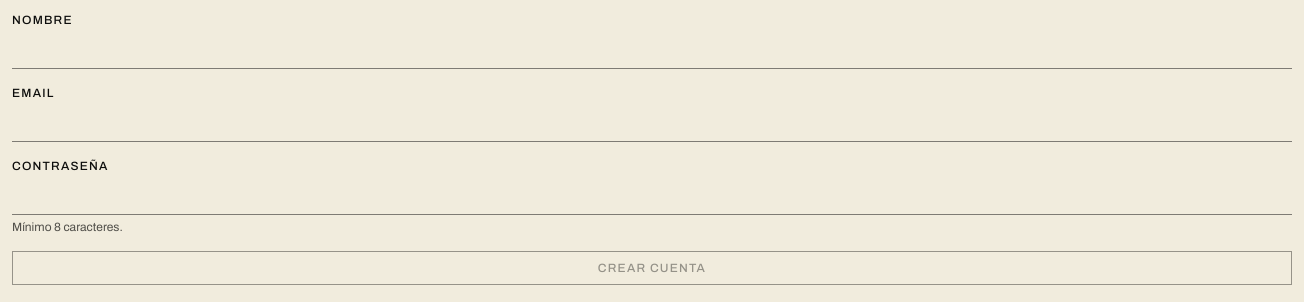
Test: RegisterForm › habilita crear cuenta cuando la contraseña alcanza el minimo
The width and height of the screenshot is (1304, 302).
In the password field labelled "Contraseña": (652, 196) [12,178,1292,215], type "12345678"
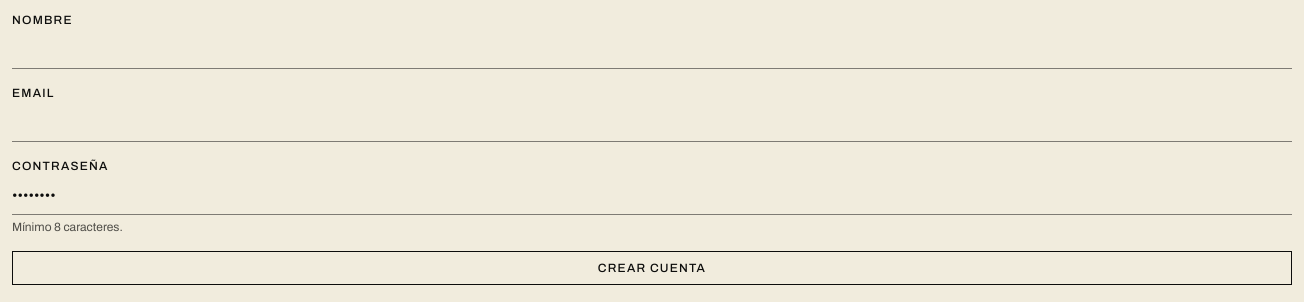
Now the button "Crear cuenta" is enabled, box [12,251,1292,285]
